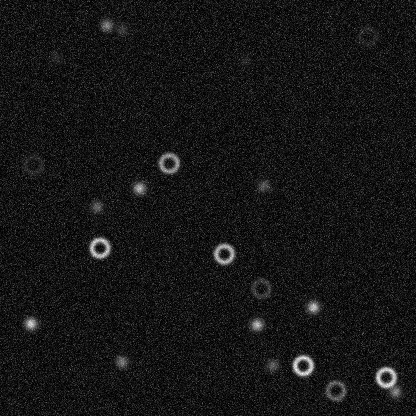Ring: (373, 365, 397, 389), (290, 353, 314, 377), (211, 241, 235, 265), (87, 235, 111, 259), (21, 152, 45, 176), (156, 151, 180, 175), (323, 378, 347, 402), (248, 276, 272, 300), (355, 23, 379, 47)
Spot: (22, 315, 38, 331), (248, 316, 264, 332), (113, 353, 129, 369), (305, 298, 321, 314), (255, 177, 271, 193), (114, 21, 130, 37), (264, 356, 280, 372), (237, 53, 253, 69), (98, 17, 114, 33), (48, 49, 64, 65), (387, 383, 403, 399), (88, 198, 104, 214), (131, 180, 147, 196)
